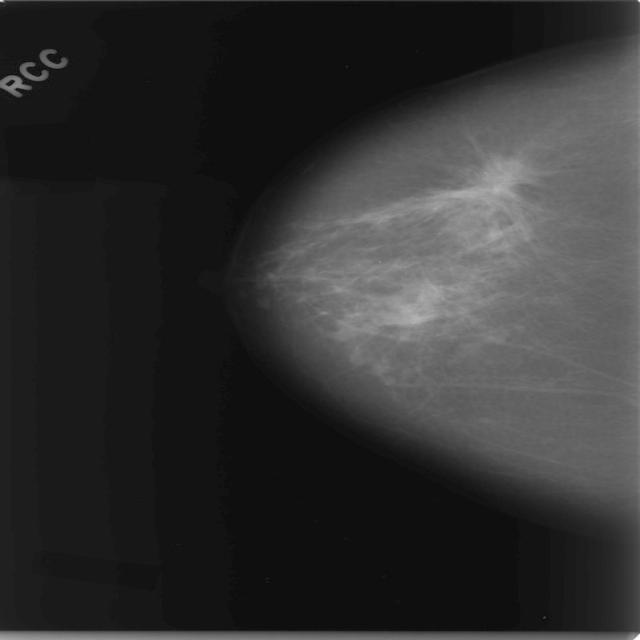tumour: (441, 156, 540, 208)
